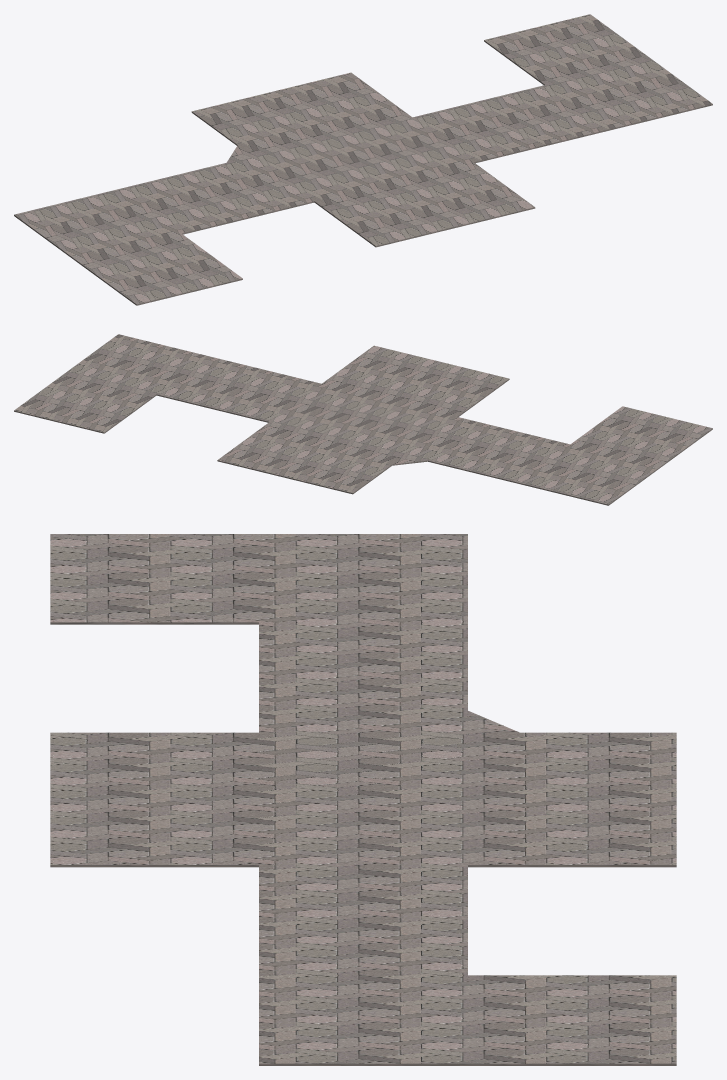
File: groundmap.fbx
3 renders of one model, top to bottom at view 1: azimuth 30°, elevation 25°; view 2: azimuth 150°, elevation 25°; view 3: azimuth 270°, elevation 25°, orthographic. The views are drawn at different scales.
Visible parts, largest first — view 1: GroundPath; view 2: GroundPath; view 3: GroundPath.
Boxes of the visible parts, x1=… form: GroundPath: x1=14, y1=14, x2=712, y2=305; GroundPath: x1=14, y1=334, x2=712, y2=505; GroundPath: x1=50, y1=534, x2=676, y2=1065.
Size of the model in its own units: 240 by 0.5 by 120.
